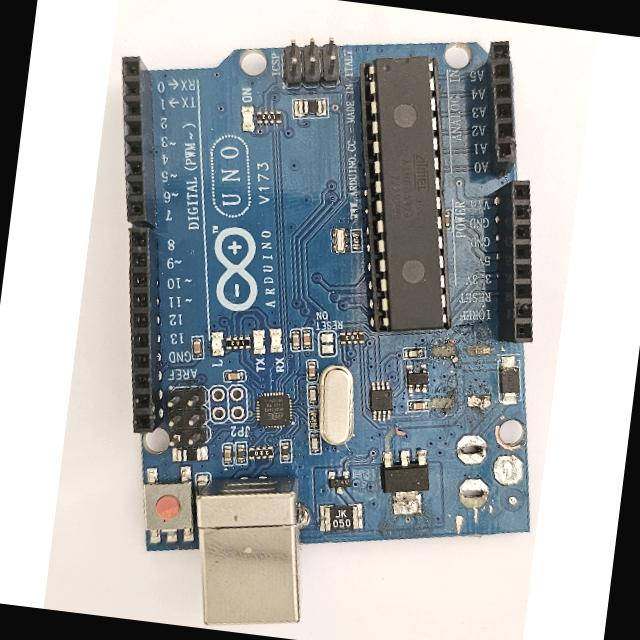missing_capacitors: (428, 335, 498, 415)
missing_eps: (452, 431, 516, 517)
